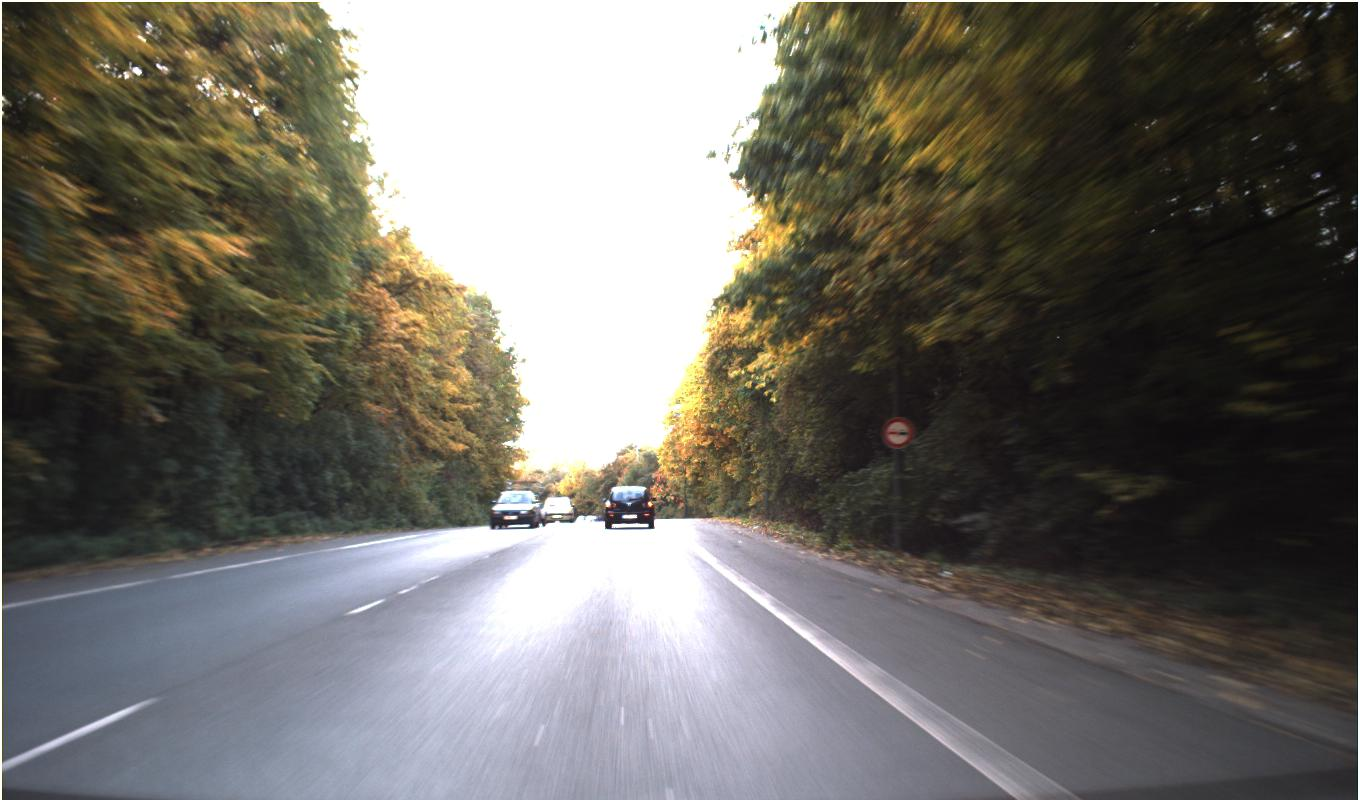prohibitory: (881, 416, 914, 449)
